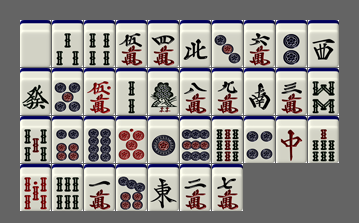0m: (84, 68, 115, 115)
0p: (116, 116, 147, 163)
0s: (20, 164, 51, 211)
1m: (84, 164, 115, 211)
1p: (148, 116, 179, 163)
1s: (148, 68, 179, 115)
1z: (148, 164, 179, 211)
2m: (180, 164, 211, 211)
2p: (276, 20, 307, 67)
2s: (116, 68, 147, 115)
2z: (244, 68, 275, 115)
3m: (276, 68, 307, 115)
3p: (212, 20, 243, 67)
3s: (52, 20, 83, 67)
3z: (308, 20, 339, 67)
4m: (148, 20, 179, 67)
4p: (244, 116, 275, 163)
4s: (84, 20, 115, 67)
4z: (180, 20, 211, 67)
5m: (116, 20, 147, 67)
5p: (52, 68, 83, 115)
5s: (20, 116, 51, 163)
5z: (20, 20, 51, 67)
6m: (244, 20, 275, 67)
6p: (52, 116, 83, 163)
6s: (52, 164, 83, 211)
6z: (20, 68, 51, 115)
7m: (212, 164, 243, 211)
7p: (116, 164, 147, 211)
7s: (308, 116, 339, 163)
7z: (276, 116, 307, 163)
8m: (180, 68, 211, 115)
8p: (84, 116, 115, 163)
8s: (308, 68, 339, 115)
9m: (212, 68, 243, 115)
9p: (180, 116, 211, 163)
9s: (212, 116, 243, 163)
